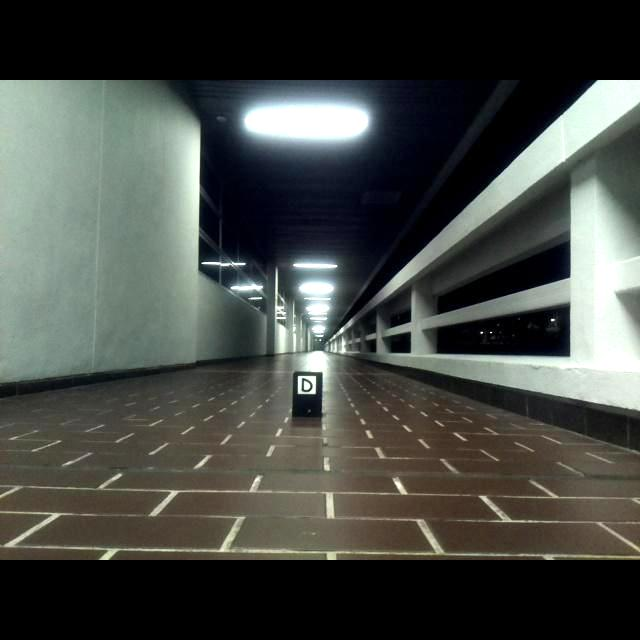D: (301, 377, 313, 393)
